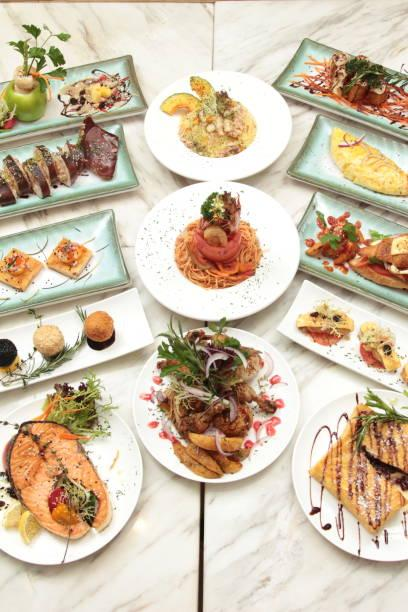Braised Crucian Carp: (129, 329, 297, 483), (0, 394, 142, 563), (134, 181, 298, 320), (290, 391, 406, 560), (142, 70, 291, 180), (0, 286, 153, 393), (287, 188, 408, 310), (278, 277, 408, 390), (273, 35, 408, 141), (0, 119, 139, 215), (0, 50, 146, 140), (0, 206, 130, 304), (291, 115, 408, 219)
